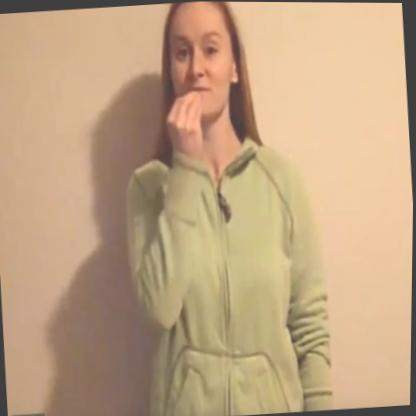Food: (122, 1, 295, 215)
